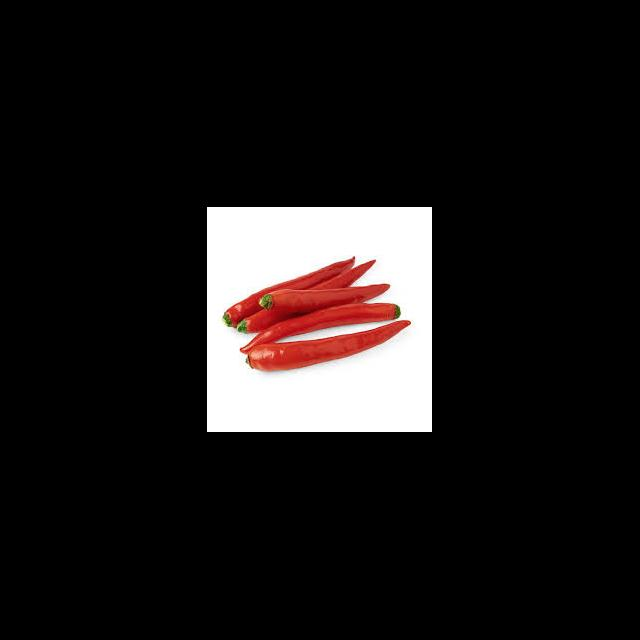chili_pepper: (240, 258, 412, 374), (220, 256, 378, 332)
